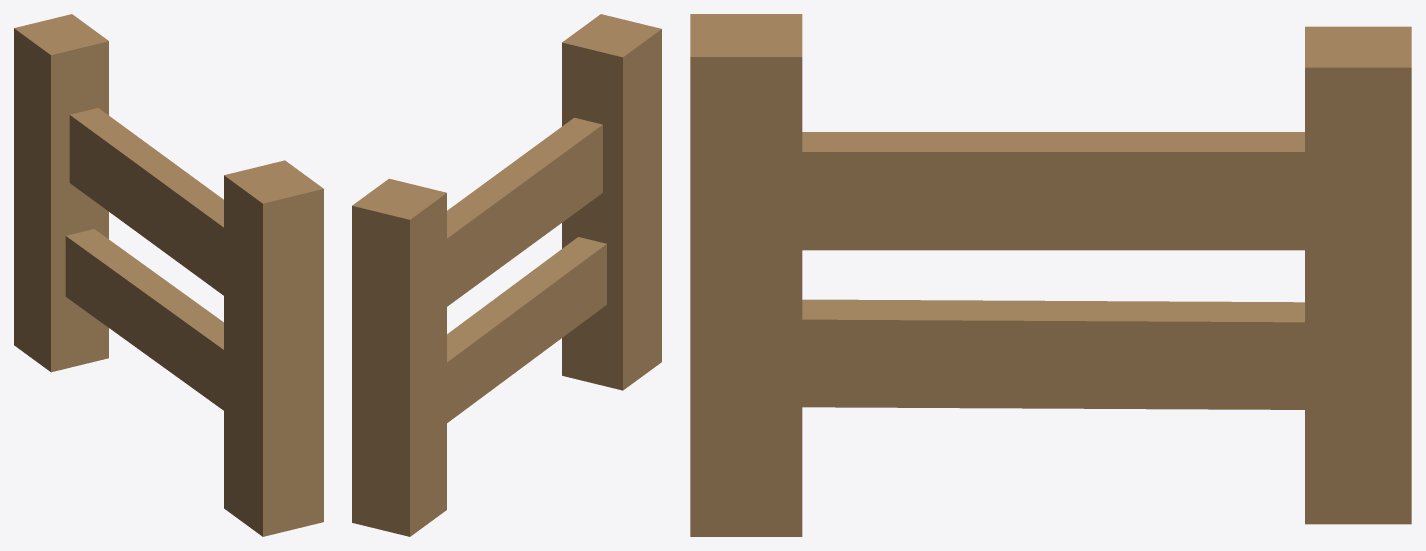
Rendered from fence3LP.fbx.
The picture shows the model from 3 angles, left to right: view 1: azimuth 30°, elevation 25°; view 2: azimuth 150°, elevation 25°; view 3: azimuth 270°, elevation 25°; orthographic projection. The views are drawn at different scales.
Parts seen in each view (by area): view 1: fence3; view 2: fence3; view 3: fence3.
Boxes of the visible parts, x1,y1,x2,y2 form: fence3: [14, 14, 323, 536]; fence3: [352, 14, 661, 536]; fence3: [690, 14, 1411, 536].
Bounding box in the file's own units: 24.66 × 129 × 175.
